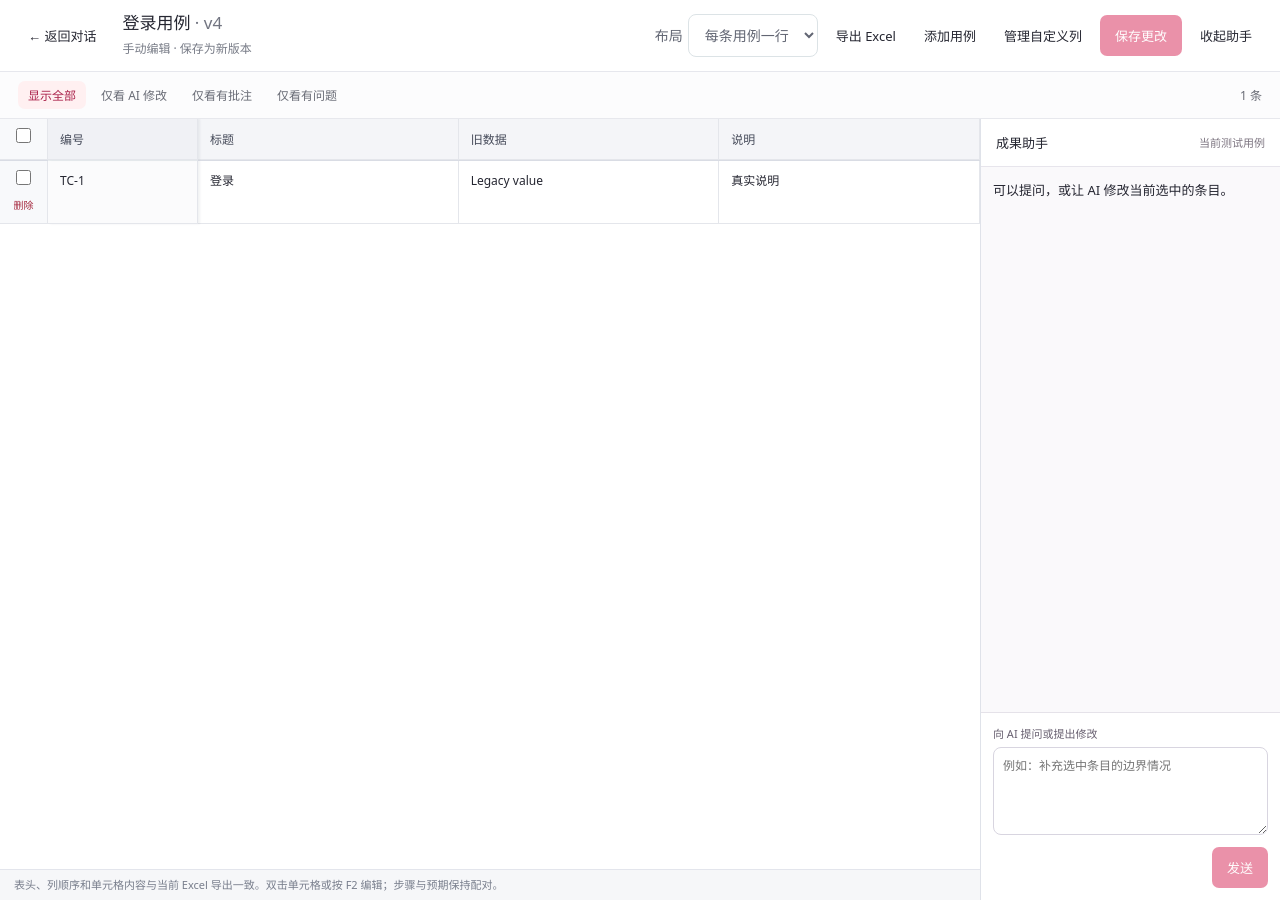
layout switching after a custom-column removal keeps immutable baseline projections coherent on reset
expect the table named "测试用例工作表" is shown: met, box x1=0 y1=119 x2=980 y2=224
Click the button "管理自定义列": point(1043, 36) x1=994 y1=18 x2=1092 y2=53
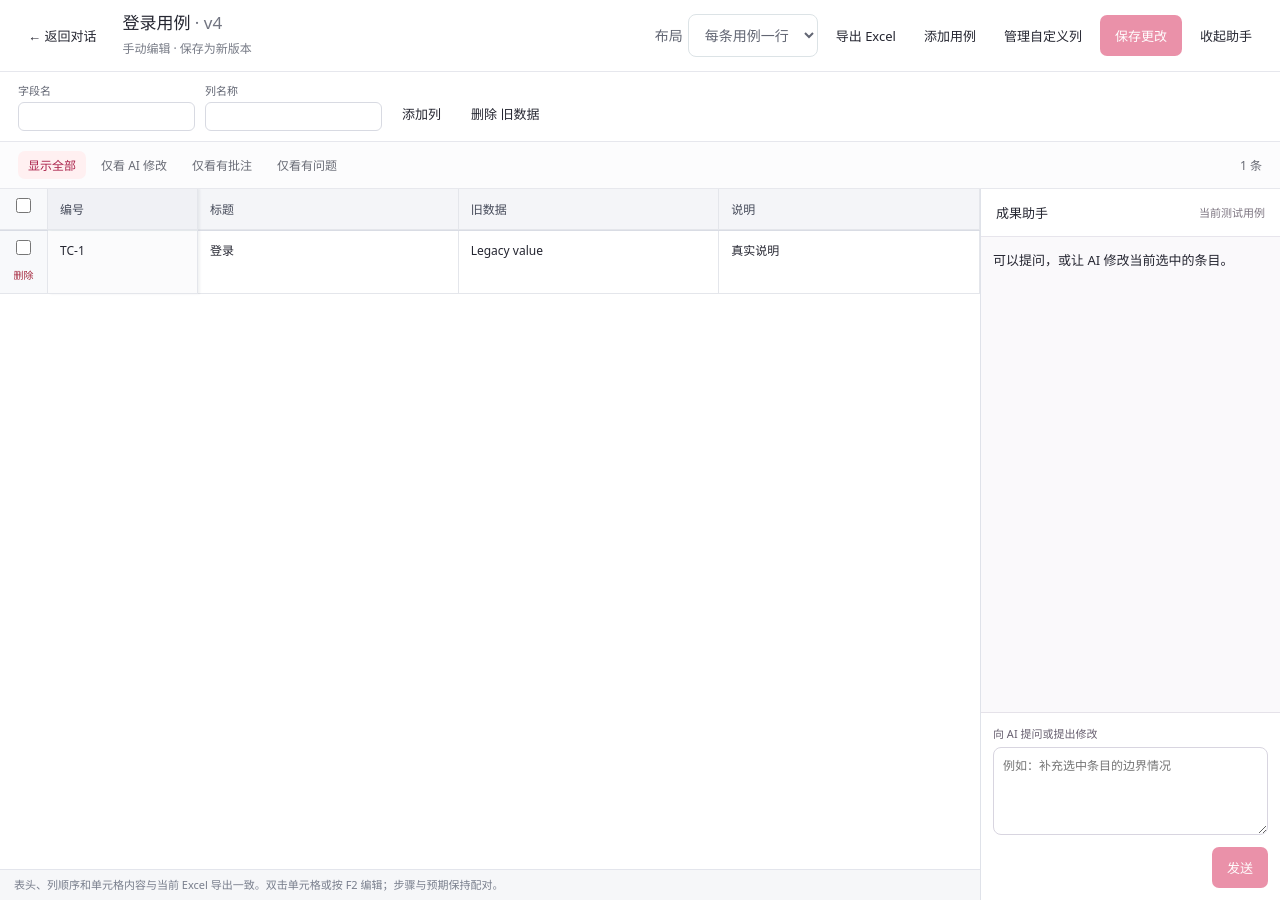
Click the button with aria-label "删除列 旧数据": point(505, 113) x1=461 y1=96 x2=549 y2=131
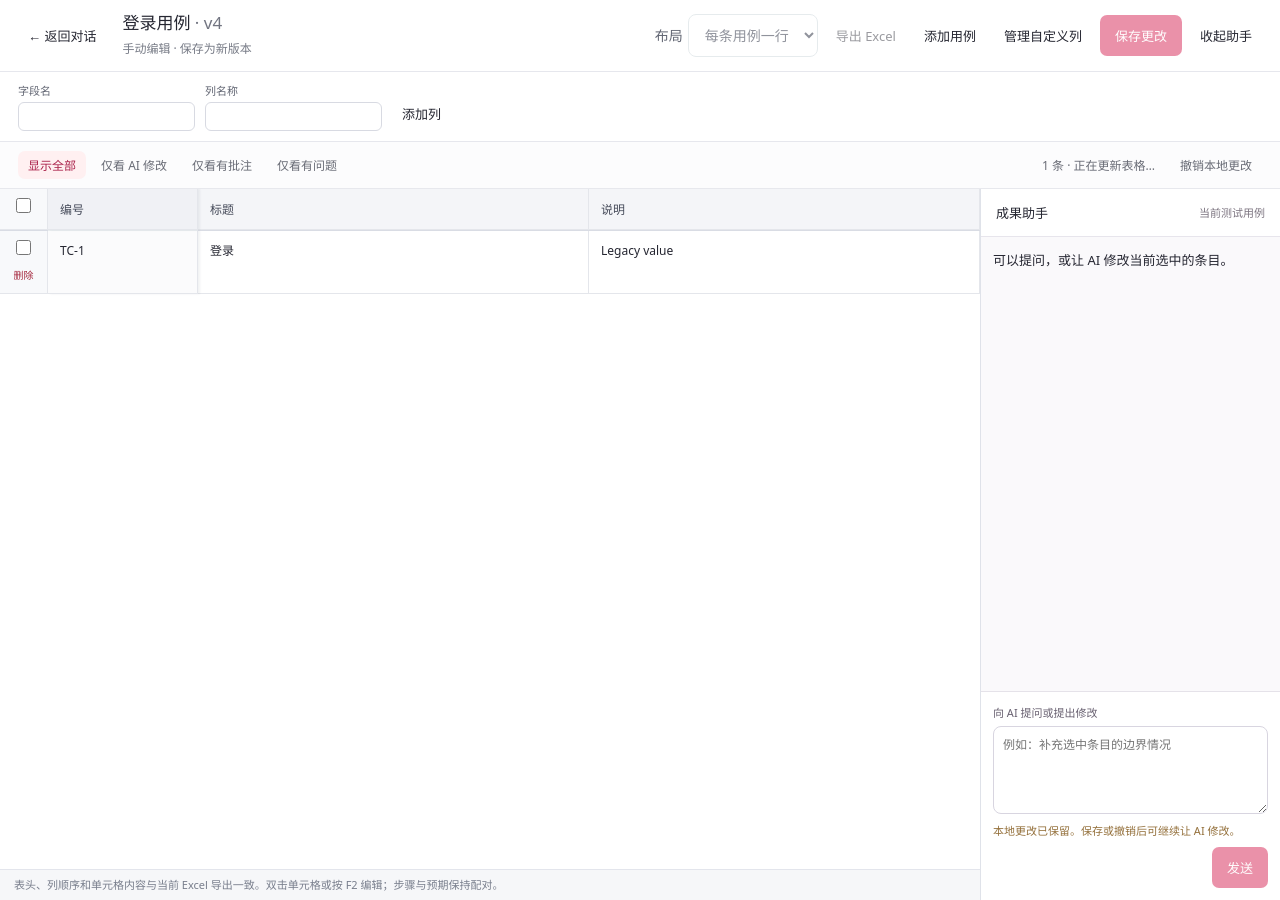
expect the button "旧数据" is gone: met
Select "每个步骤一行" in the dropdown named "表格与 Excel 布局": point(753, 36) x1=688 y1=14 x2=818 y2=57
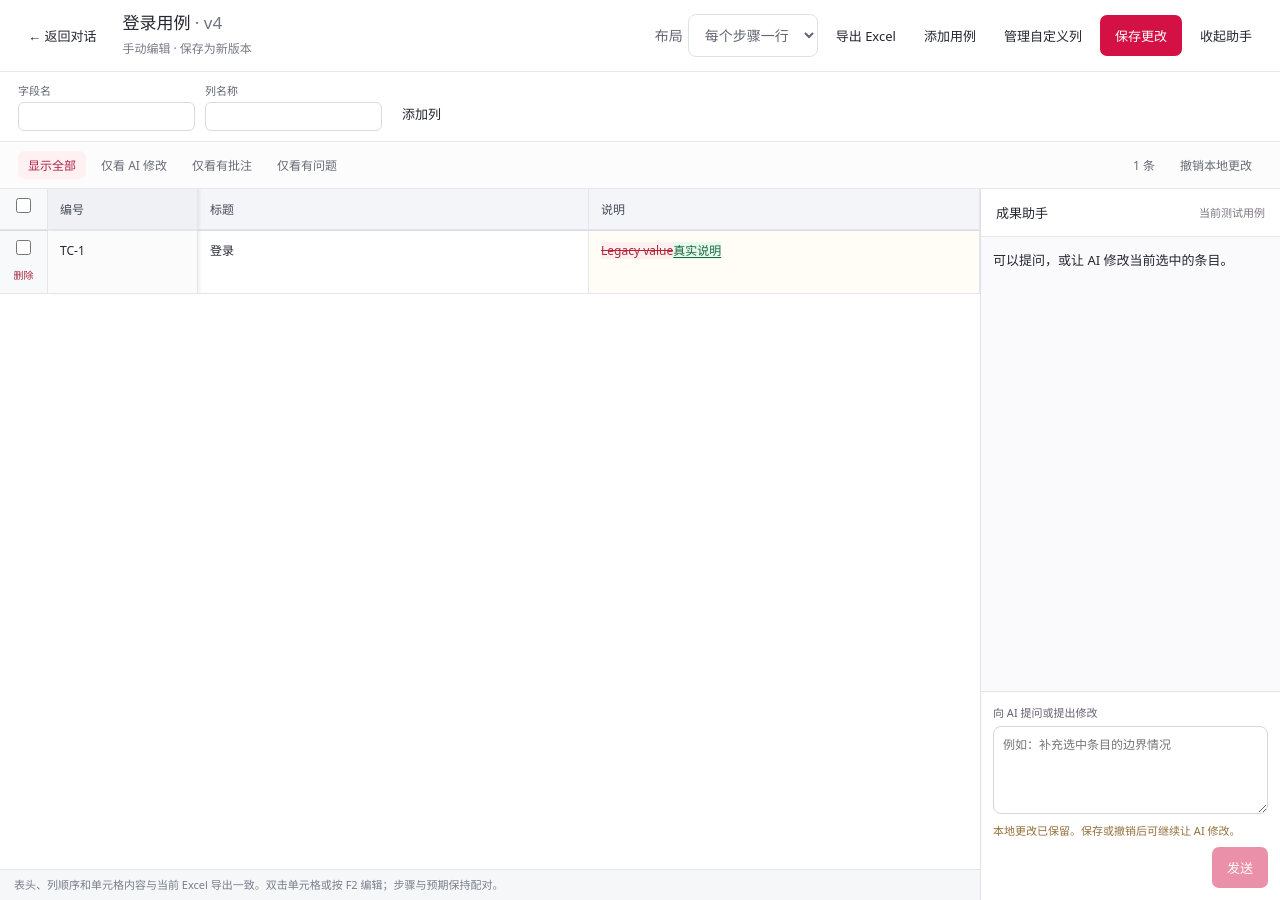
Click the button "撤销本地更改": point(1216, 165) x1=1170 y1=151 x2=1262 y2=179
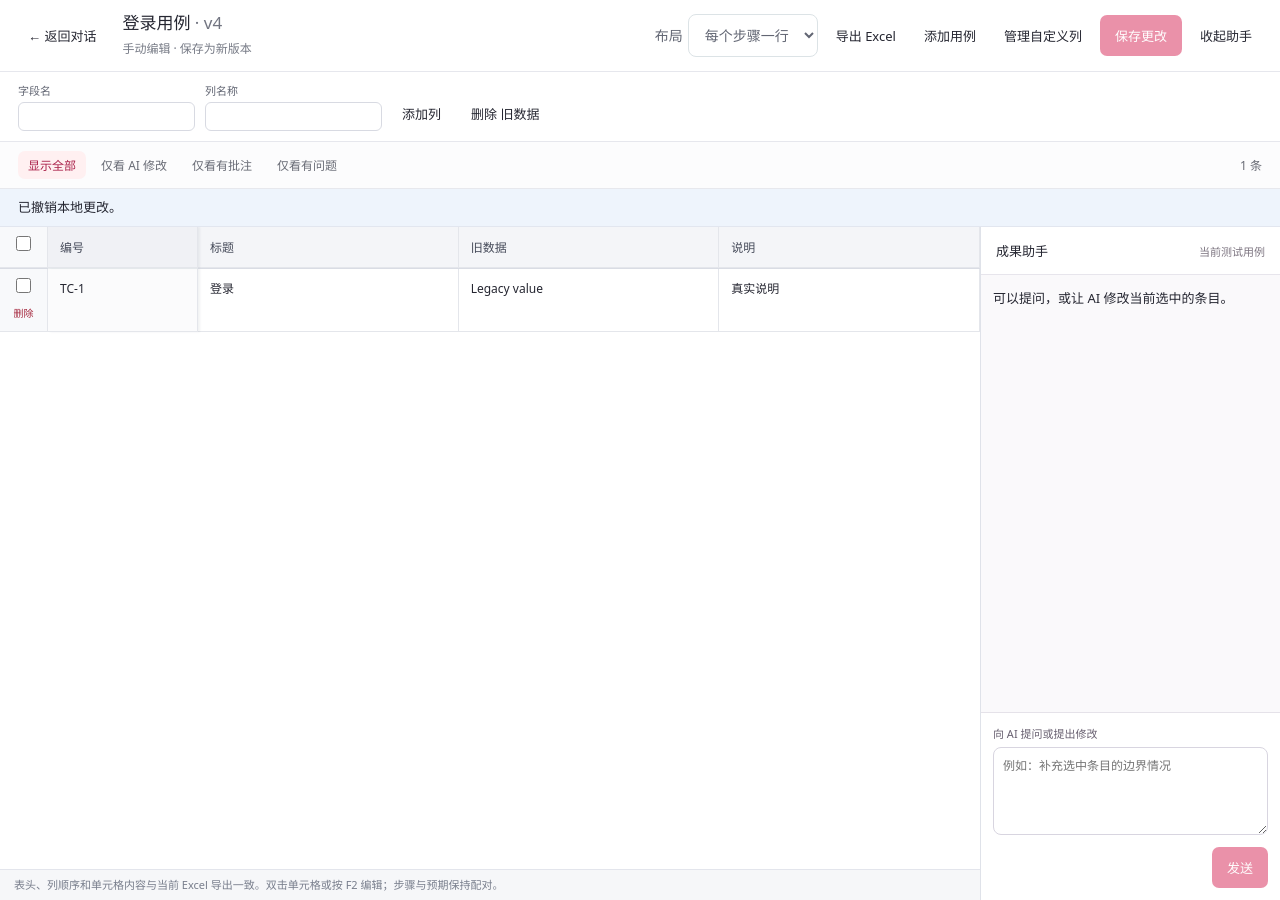
expect the text "Legacy value" is shown: met, box x1=471 y1=280 x2=543 y2=297
expect the text "真实说明" is shown: met, box x1=731 y1=280 x2=779 y2=297
expect the column heading "旧数据" is shown: met, box x1=459 y1=227 x2=719 y2=268
